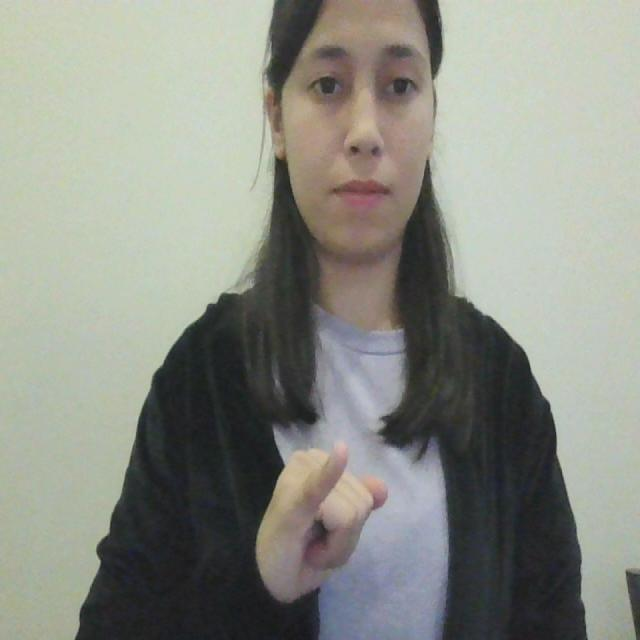kotu: (254, 429, 397, 590)
